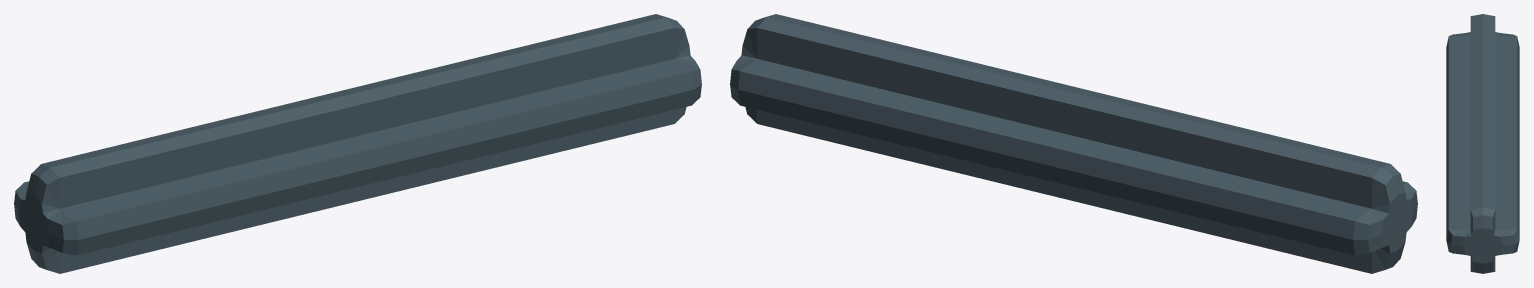
The picture shows the model from 3 angles, left to right: view 1: azimuth 30°, elevation 25°; view 2: azimuth 150°, elevation 25°; view 3: azimuth 270°, elevation 25°; orthographic projection. The views are drawn at different scales.
Visible parts, largest first — view 1: world; view 2: world; view 3: world.
Boxes of the visible parts, left/top/right/bottom form: world: left=14, top=14, right=701, bottom=273; world: left=730, top=14, right=1417, bottom=273; world: left=1446, top=14, right=1519, bottom=273.
Bounding box in the file's own units: 0.0316 × 0.0048 × 0.0048.
